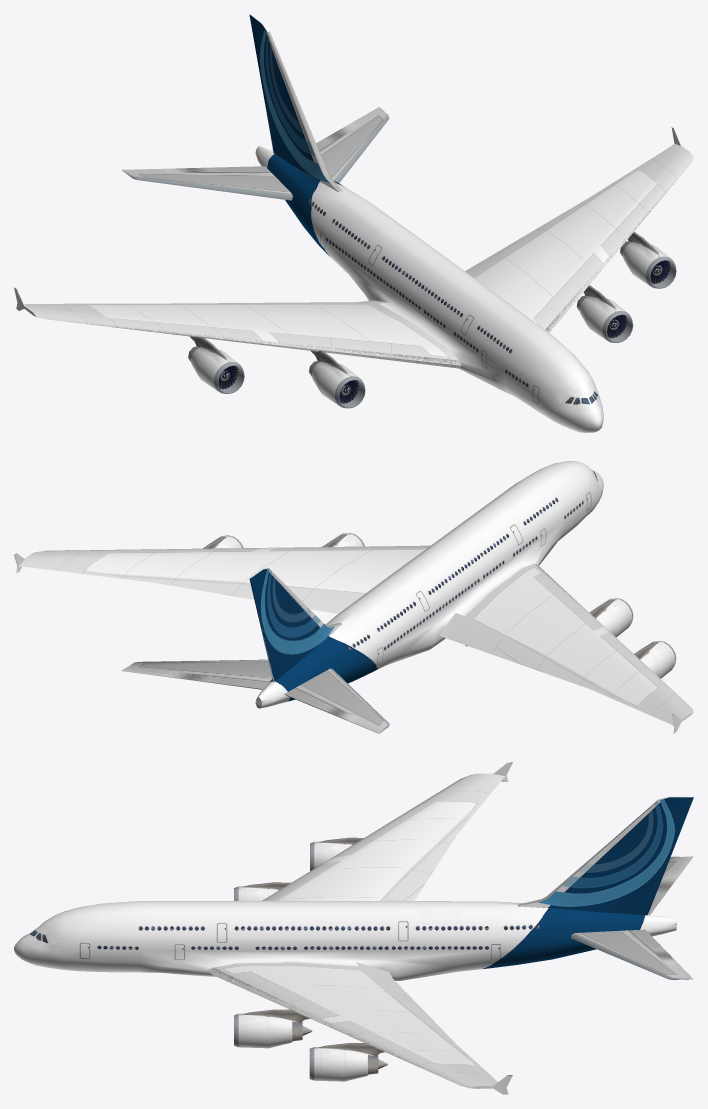
3 views of the same model, one above another, from view 1: azimuth 30°, elevation 25°; view 2: azimuth 150°, elevation 25°; view 3: azimuth 270°, elevation 25° (orthographic). The views are drawn at different scales.
Parts seen in each view (by area): view 1: A380; view 2: A380; view 3: A380.
Boxes of the visible parts, x1,y1,x2,y2 form: A380: [14, 14, 693, 432]; A380: [14, 461, 693, 733]; A380: [14, 762, 693, 1094].
Size of the model in its own units: 79.12 by 21.91 by 72.7.
1 material, 1 textured.
